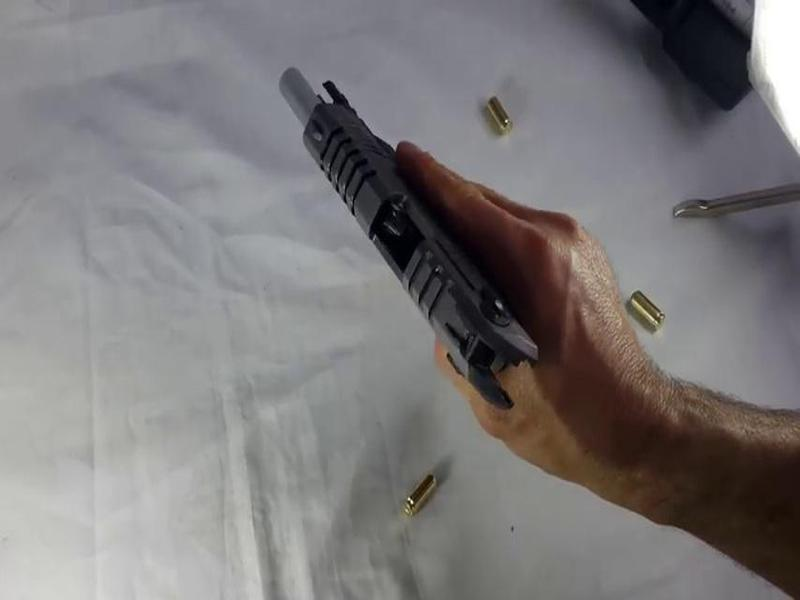Pistola: (239, 53, 568, 432)
